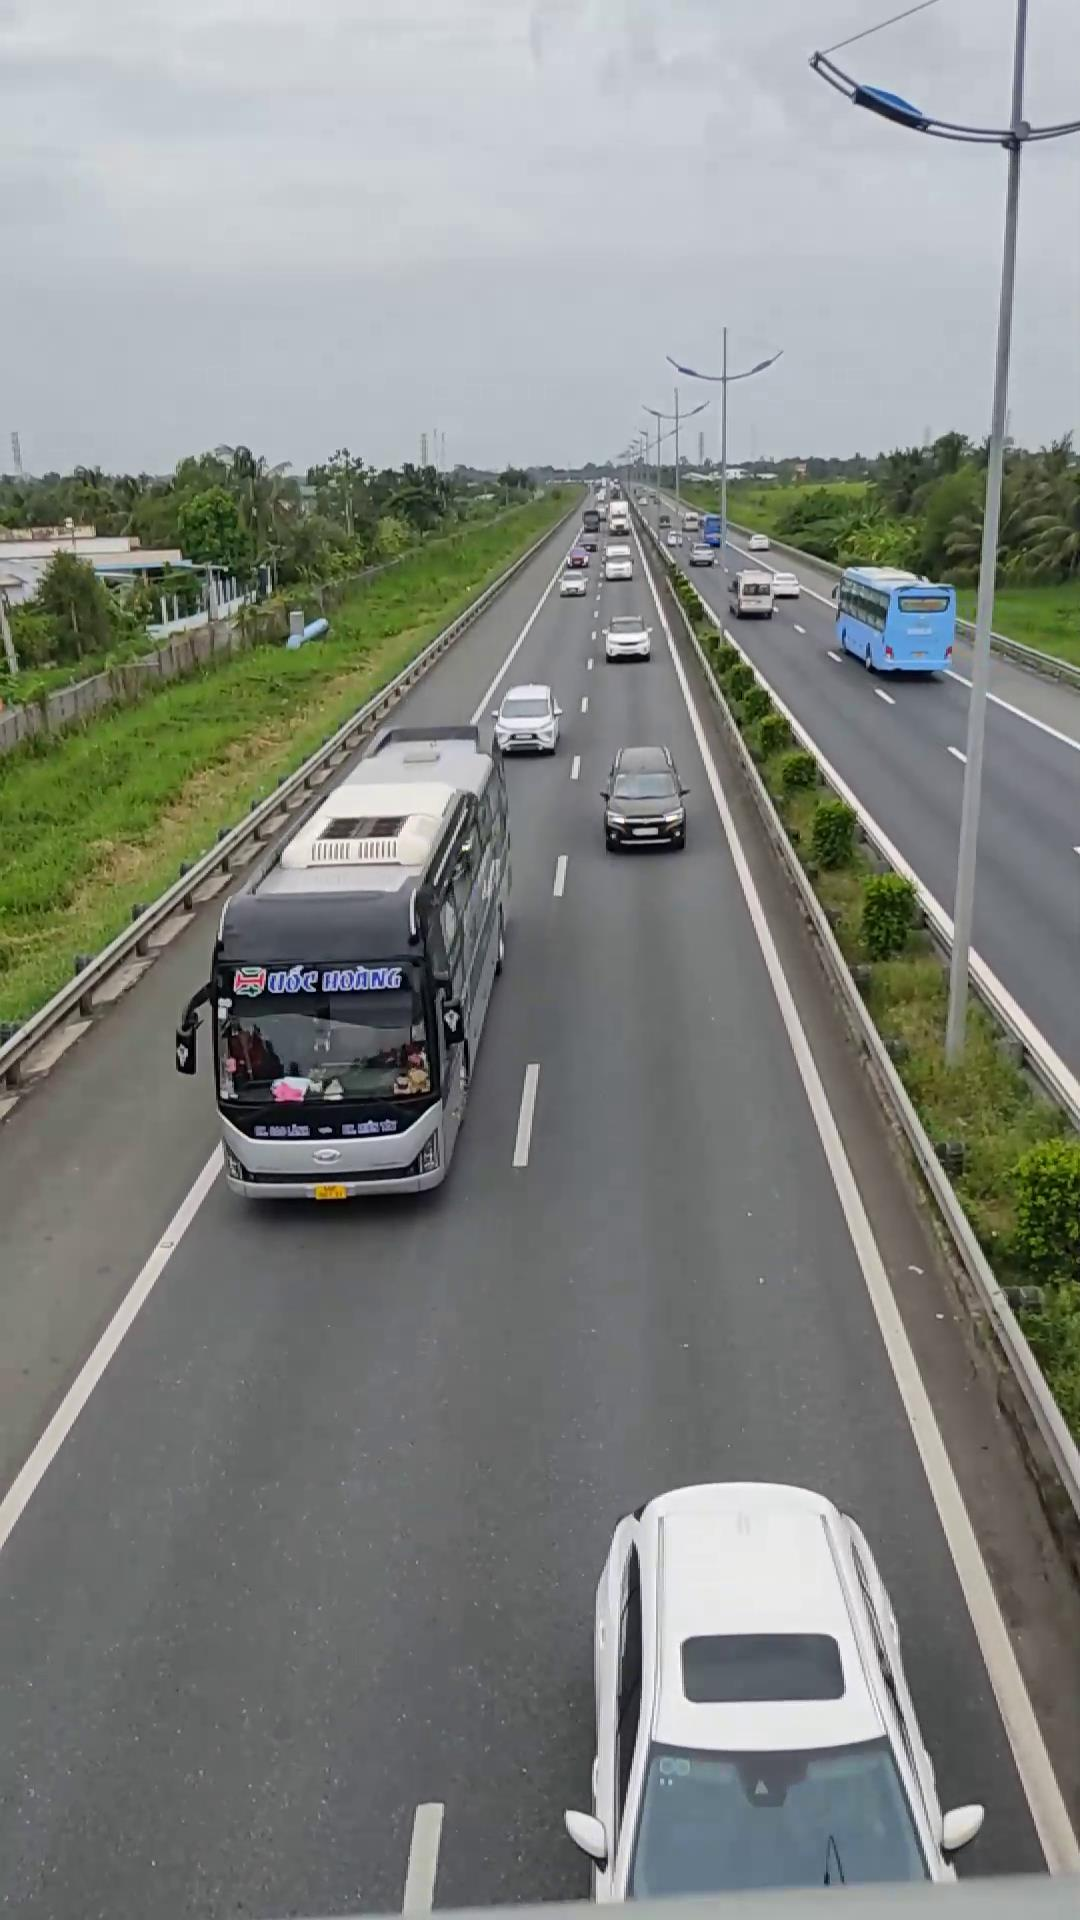bus: (185, 728, 516, 1205), (832, 563, 957, 674)
car: (575, 1477, 974, 1887), (598, 744, 691, 851), (487, 683, 562, 754)
